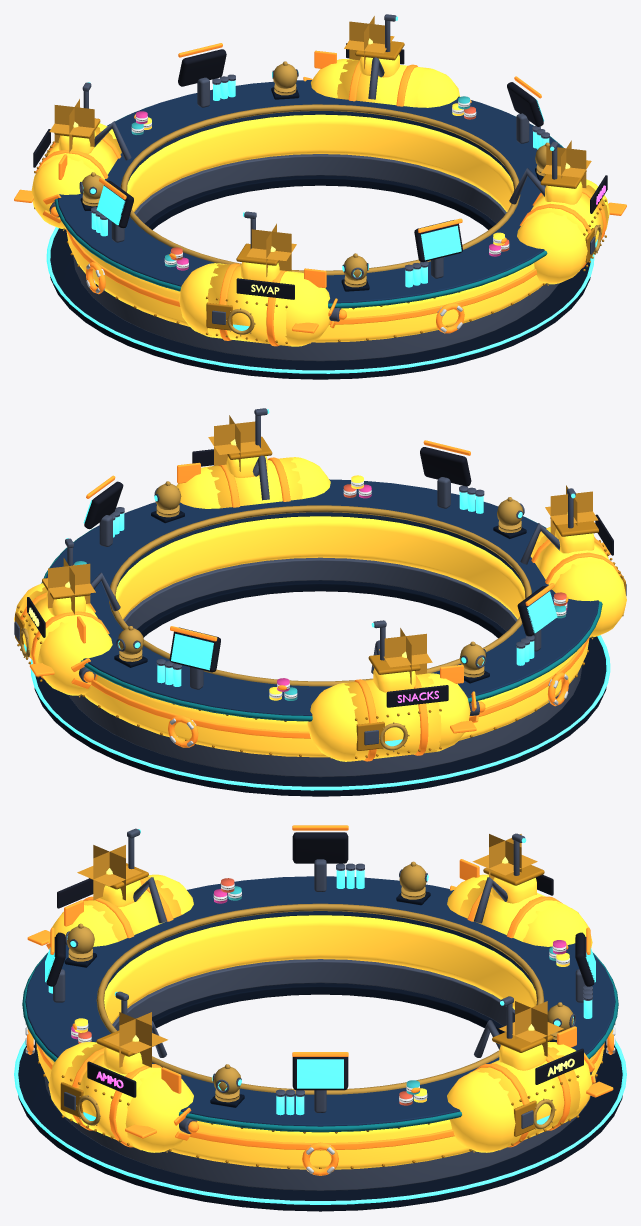
Rendered from aqua_station.glb.
3 views of the same model, one above another, from view 1: azimuth 30°, elevation 25°; view 2: azimuth 150°, elevation 25°; view 3: azimuth 270°, elevation 25° (orthographic). The views are drawn at different scales.
Parts seen in each view (by area): view 1: Station, OpenLights; view 2: Station, OpenLights; view 3: Station, OpenLights.
Boxes of the visible parts, bbox=[...] form: Station: bbox=[14, 14, 626, 379]; OpenLights: bbox=[49, 16, 591, 276]; Station: bbox=[14, 408, 626, 796]; OpenLights: bbox=[42, 415, 598, 684]; Station: bbox=[14, 825, 626, 1211]; OpenLights: bbox=[45, 834, 595, 1088].
Size of the model in its own units: 9.97 by 3.03 by 9.97.
